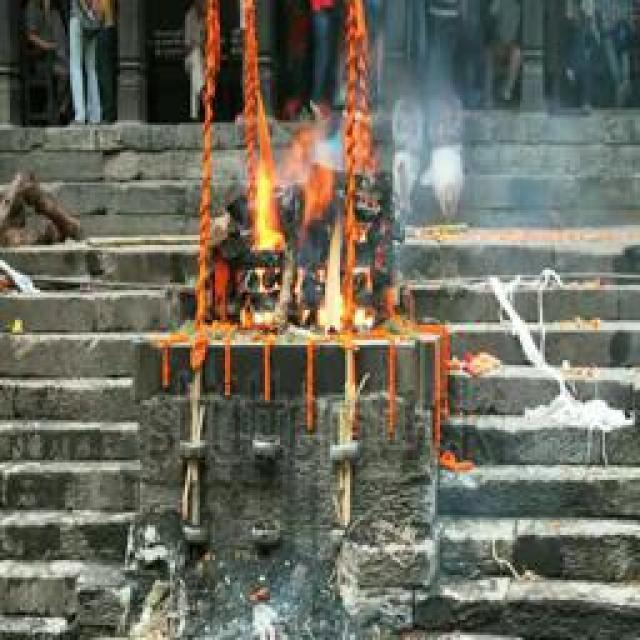Fire: (249, 101, 357, 335)
